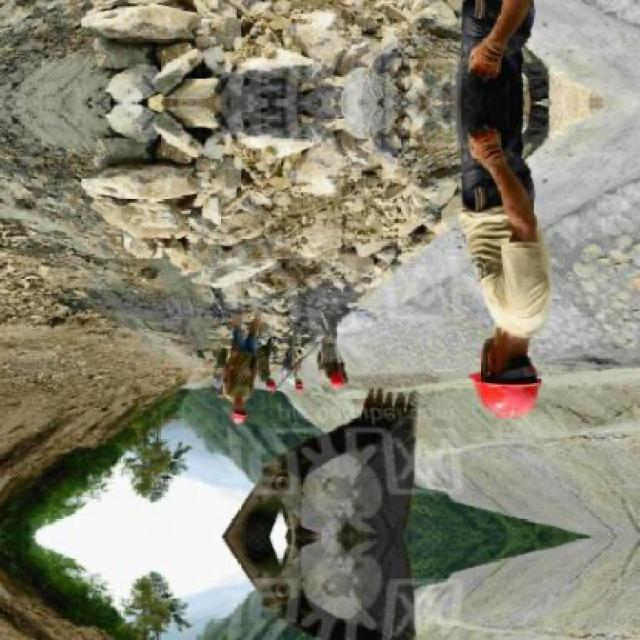con casco: (443, 290, 589, 420), (310, 357, 371, 395), (220, 400, 267, 440)
